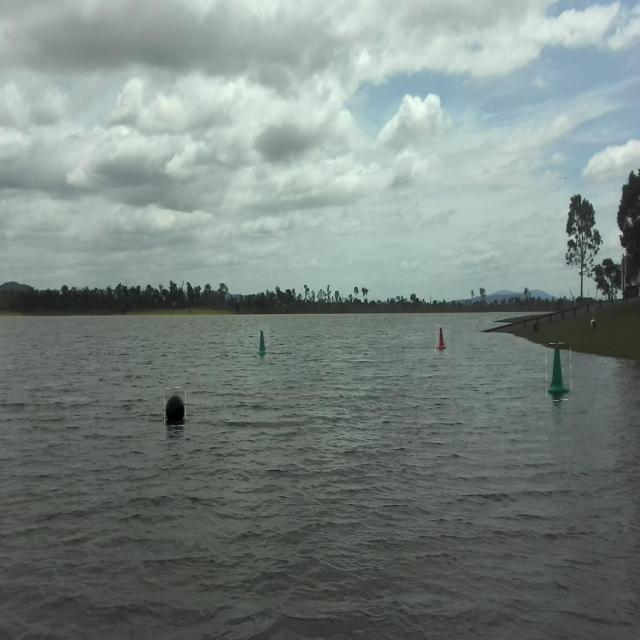Black_Buoy: (165, 388, 189, 430)
Green_Buoy: (545, 341, 572, 399), (257, 327, 269, 358)
Red_Buoy: (437, 324, 452, 352)
